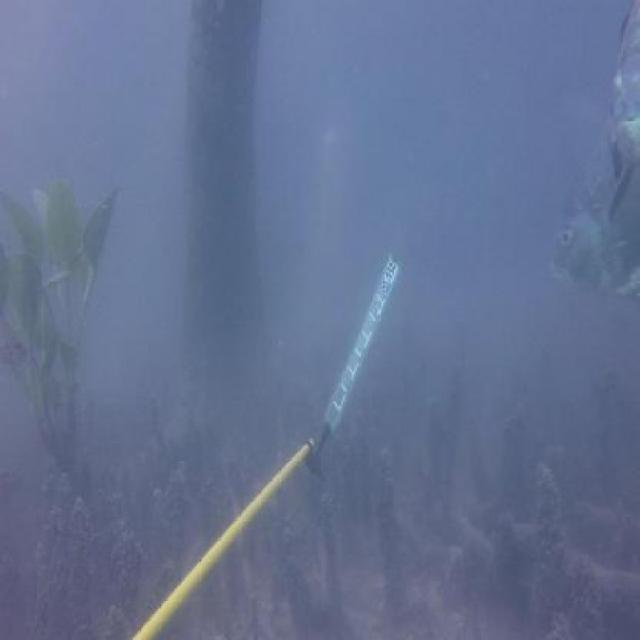acanthopagrus_palmaris: (546, 153, 640, 309), (606, 0, 640, 218)
